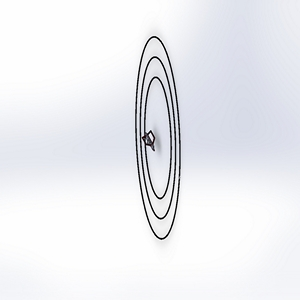circle: (112, 29, 190, 247)
submarine: (138, 127, 159, 159)
